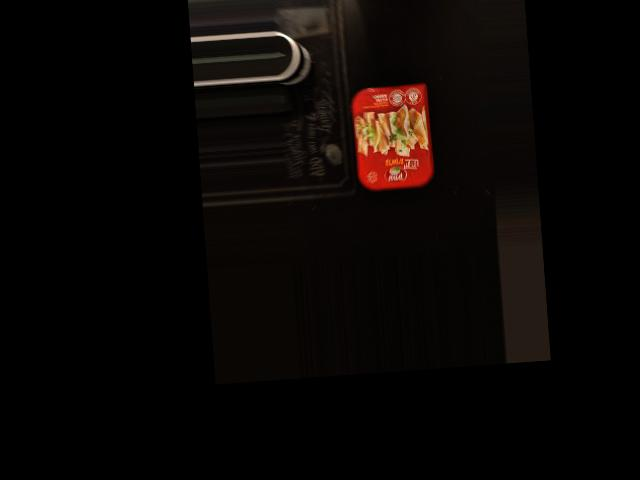cheese: (347, 76, 439, 193)
